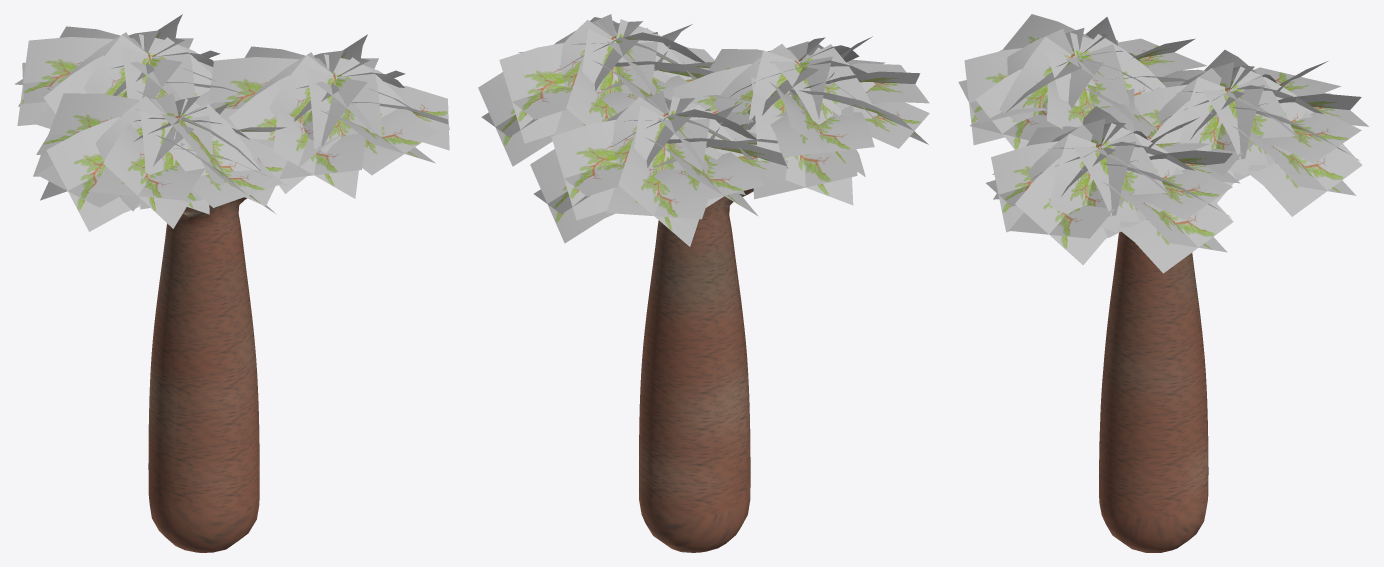
File: BaobabWood_03.fbx
3 renders of one model, left to right at view 1: azimuth 30°, elevation 25°; view 2: azimuth 150°, elevation 25°; view 3: azimuth 270°, elevation 25°, orthographic. The views are drawn at different scales.
Parts seen in each view (by area): view 1: BaobabWood_03; view 2: BaobabWood_03; view 3: BaobabWood_03.
Boxes of the visible parts, <box> form: BaobabWood_03: <box>15,14,449,552</box>; BaobabWood_03: <box>478,14,929,552</box>; BaobabWood_03: <box>958,14,1369,552</box>.
Bounding box in the file's own units: 910 × 1074 × 841.
